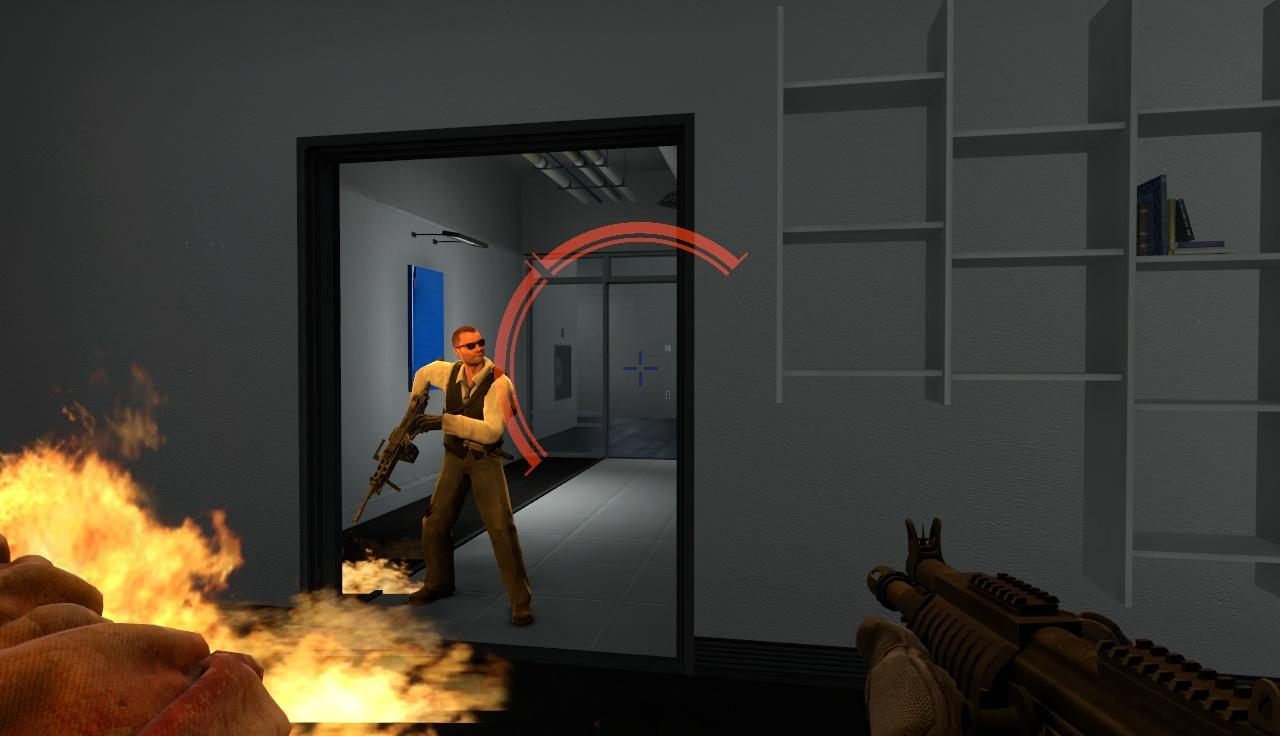rifle: (842, 515, 1280, 736)
tt: (422, 327, 521, 612)
tthead: (452, 328, 485, 368)
